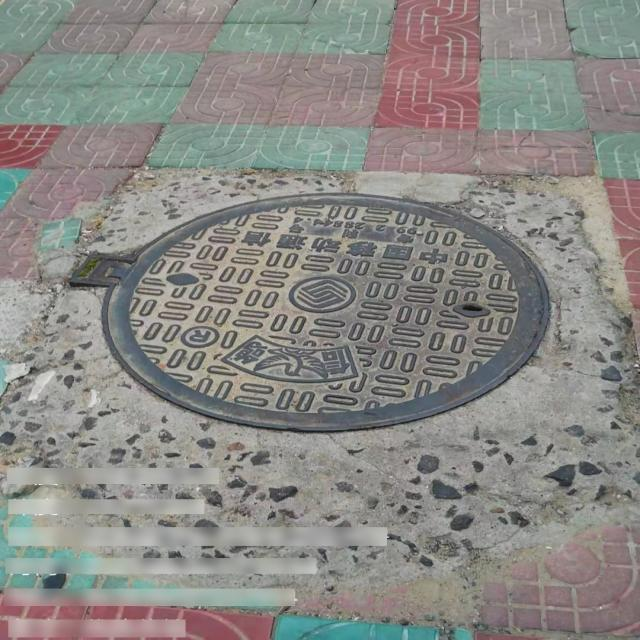Good: (68, 190, 552, 432)
